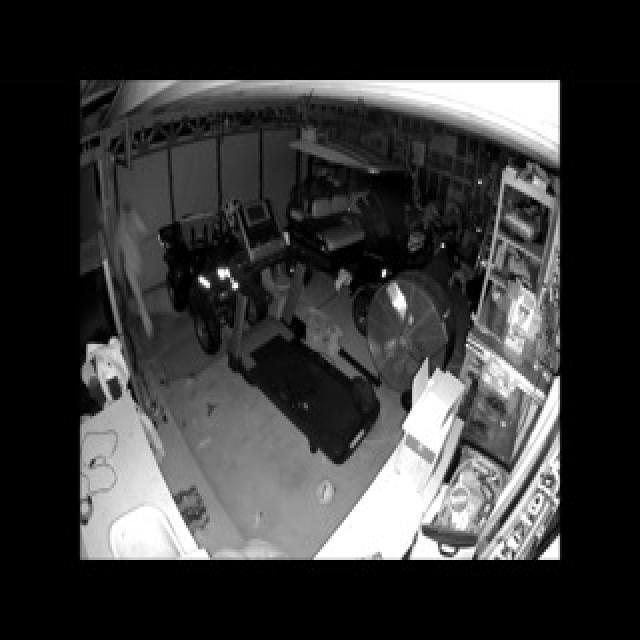thief: (102, 194, 164, 344)
